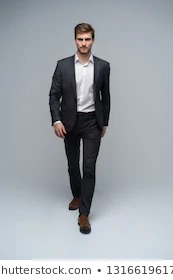F_M_suit jacket: (52, 53, 115, 132)
F_dress pants: (61, 109, 104, 217)
